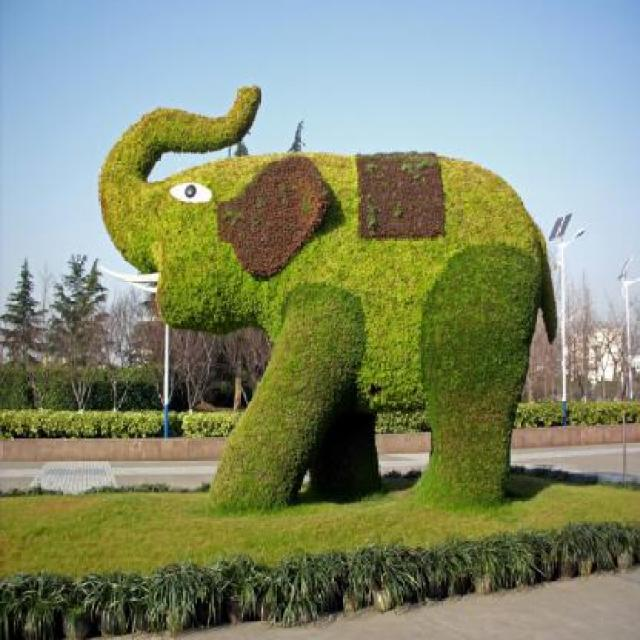Elephant: (98, 82, 558, 512)
